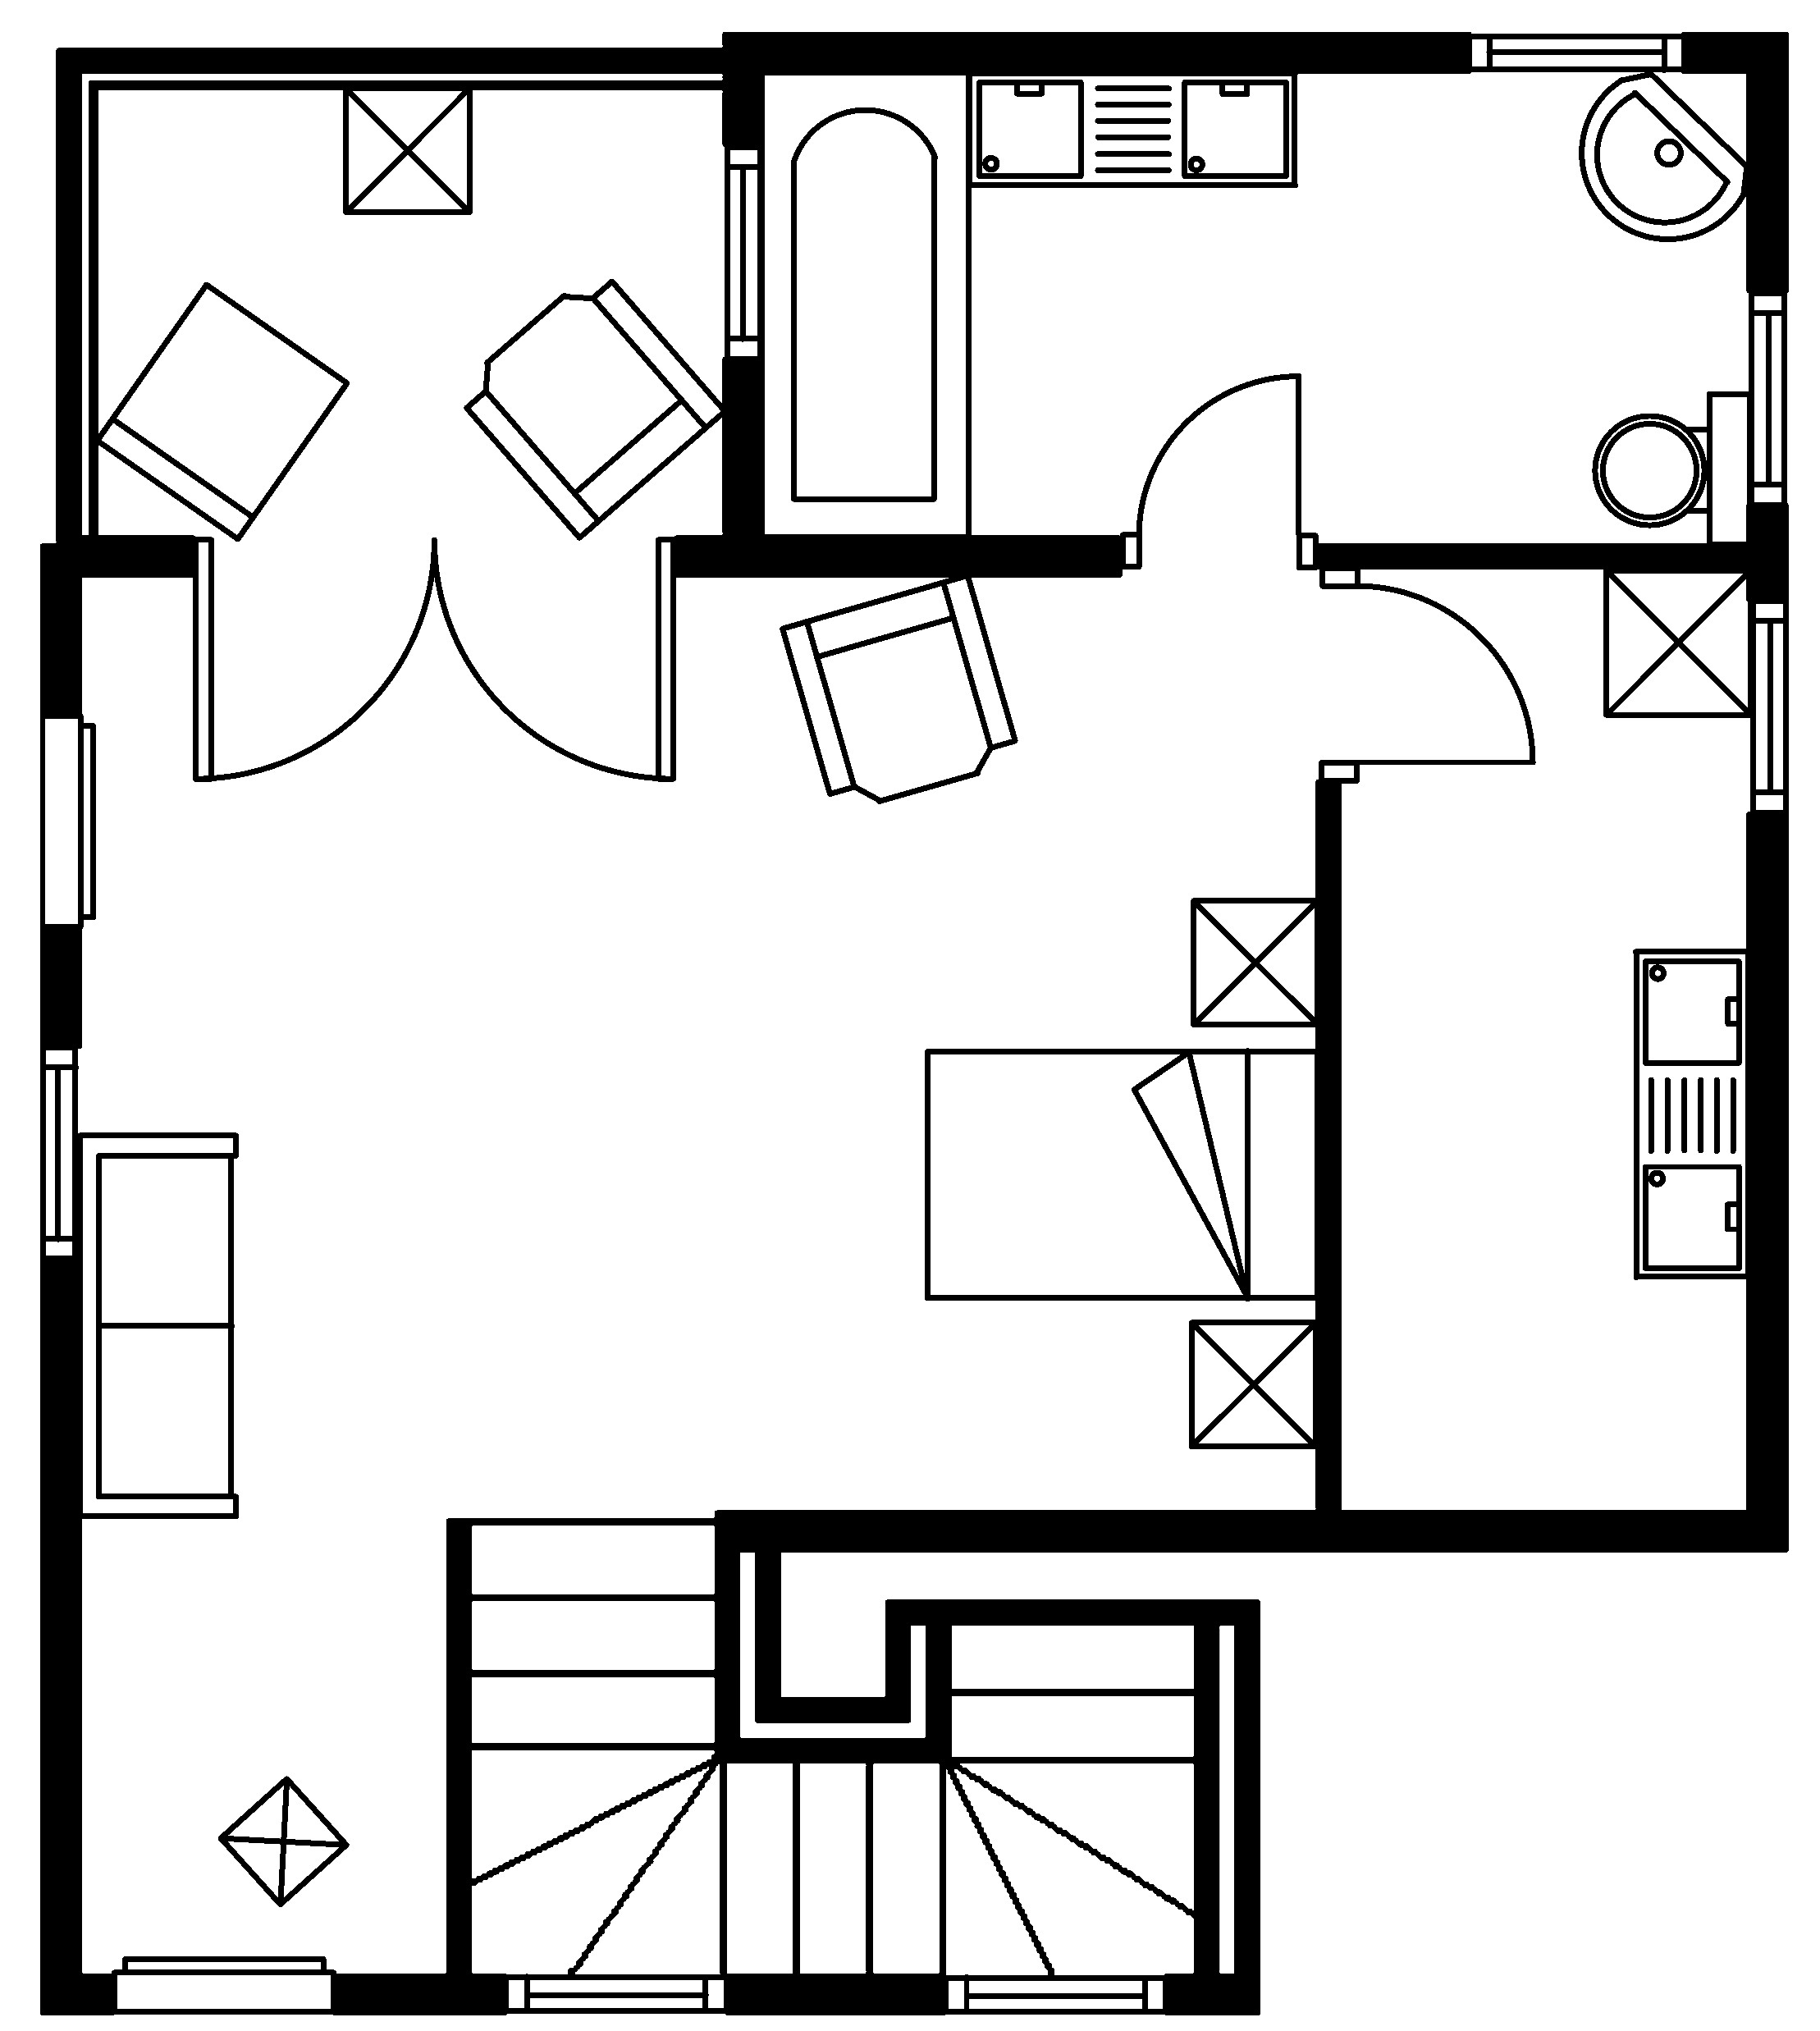armchair: (462, 276, 727, 541), (778, 571, 1019, 805)
bed: (922, 1047, 1321, 1302)
coffee_table: (1602, 566, 1753, 719), (1186, 1318, 1319, 1449), (216, 1774, 350, 1906), (1189, 896, 1321, 1028), (341, 84, 473, 214)
large_sink: (1592, 388, 1753, 548)
large_sofa: (76, 1131, 239, 1520)
small_sink: (1578, 70, 1750, 241)
small_sofa: (93, 279, 350, 543)
tub: (757, 69, 971, 539)
twin_sink: (1630, 947, 1751, 1281), (964, 69, 1298, 188)
